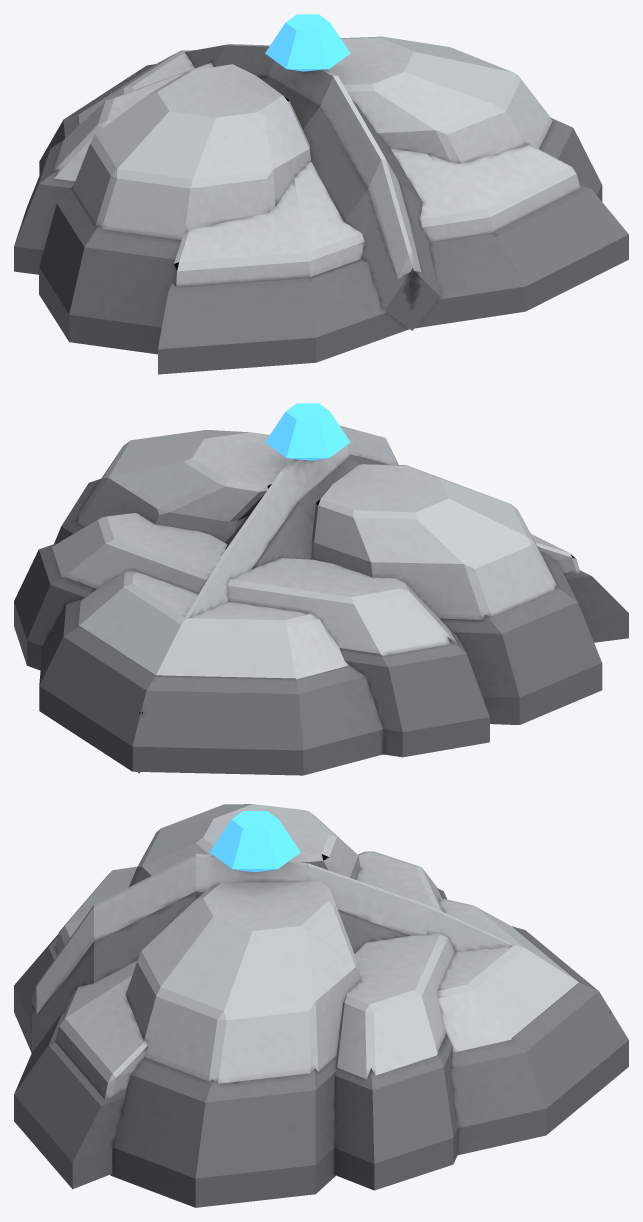
The model's file is armor_chest_silver.glb.
3 views of the same model, one above another, from view 1: azimuth 30°, elevation 25°; view 2: azimuth 150°, elevation 25°; view 3: azimuth 270°, elevation 25° (orthographic). The views are drawn at different scales.
Visible parts, largest first — view 1: chest; view 2: chest; view 3: chest.
Boxes of the visible parts, bbox=[...] form: chest: bbox=[14, 14, 628, 374]; chest: bbox=[14, 403, 628, 775]; chest: bbox=[14, 804, 628, 1207].
Bounding box in the file's own units: 0.4883 × 0.209 × 0.4576.
3 materials, 3 textured.
